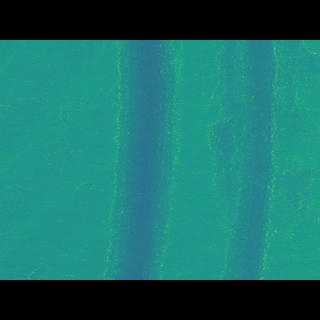Loch: (103, 68, 179, 251), (214, 69, 278, 251)
